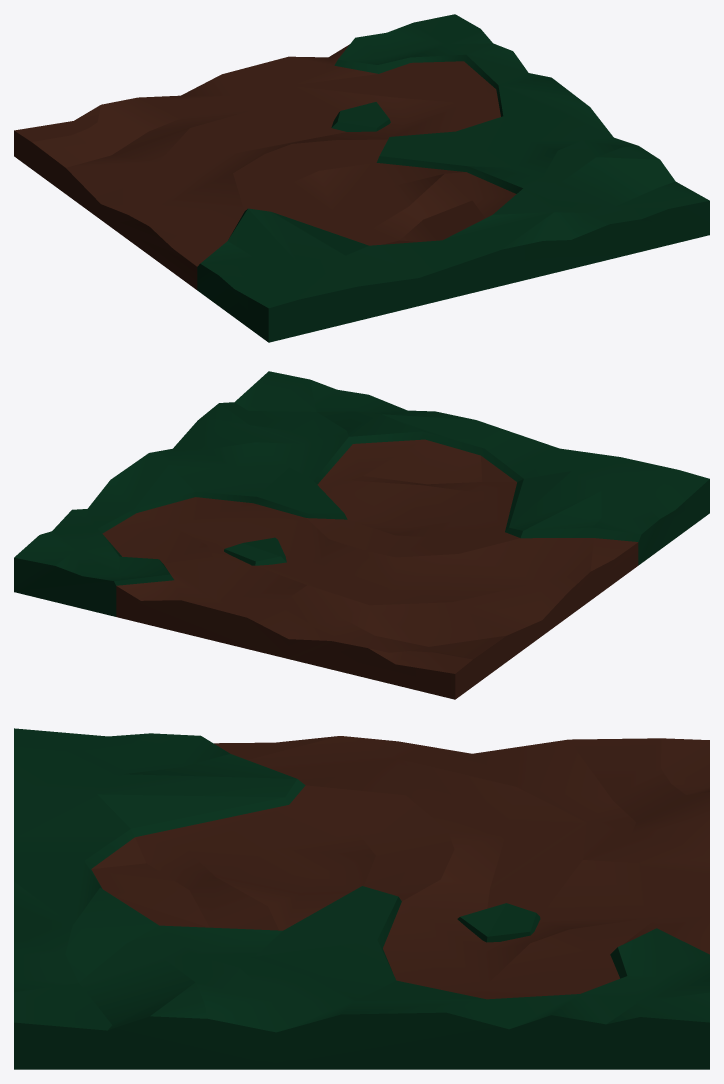
The model's file is Ground_Corner_Internal_RB.fbx.
The picture shows the model from 3 angles, top to bottom: view 1: azimuth 30°, elevation 25°; view 2: azimuth 150°, elevation 25°; view 3: azimuth 270°, elevation 25°; orthographic projection. The views are drawn at different scales.
Parts seen in each view (by area): view 1: Ground_Corner_Internal_RB; view 2: Ground_Corner_Internal_RB; view 3: Ground_Corner_Internal_RB.
Boxes of the visible parts, bbox=[...] form: Ground_Corner_Internal_RB: bbox=[14, 14, 709, 342]; Ground_Corner_Internal_RB: bbox=[14, 371, 709, 699]; Ground_Corner_Internal_RB: bbox=[14, 728, 709, 1069].
Size of the model in its own units: 147 by 13.54 by 147.
